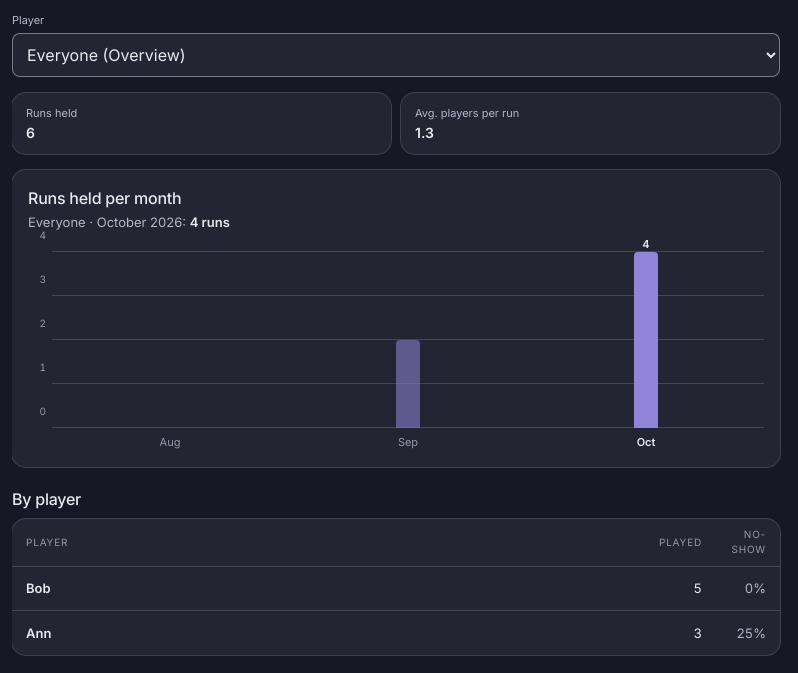
Test: StatsView overview › selects the latest month and lets you pick another
Expected: the text "Everyone · October 2026: 4 runs" is shown, [28, 214, 230, 230]
What coordinates should you click on to do the following:
click the button named "September 2026: 2 runs"
I would click on:
 (408, 340)
Its box is [290, 252, 526, 428].
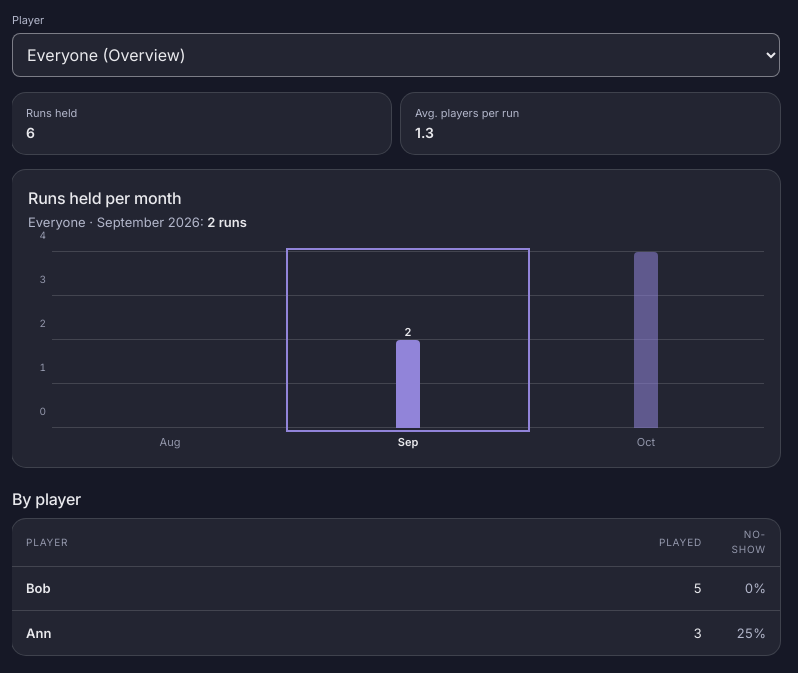
Expected: the text "Everyone · September 2026: 2 runs" is shown, [28, 214, 247, 230]
